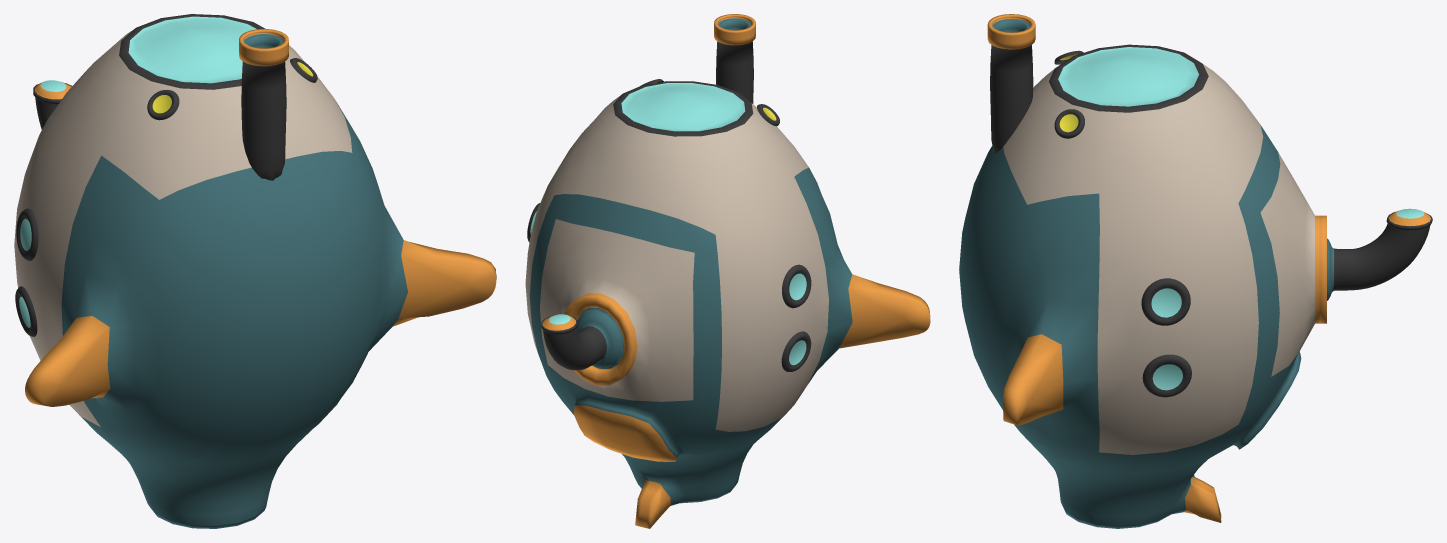
Rendered from Submarino 1.fbx.
3 views of the same model, side by side, from view 1: azimuth 30°, elevation 25°; view 2: azimuth 150°, elevation 25°; view 3: azimuth 270°, elevation 25° (orthographic). The views are drawn at different scales.
Parts seen in each view (by area): view 1: Submarino; view 2: Submarino; view 3: Submarino.
Boxes of the visible parts, left/top/right/bottom form: Submarino: left=14, top=14, right=496, bottom=528; Submarino: left=525, top=14, right=930, bottom=528; Submarino: left=959, top=14, right=1432, bottom=528.
Bounding box in the file's own units: 295 × 311 × 269.
